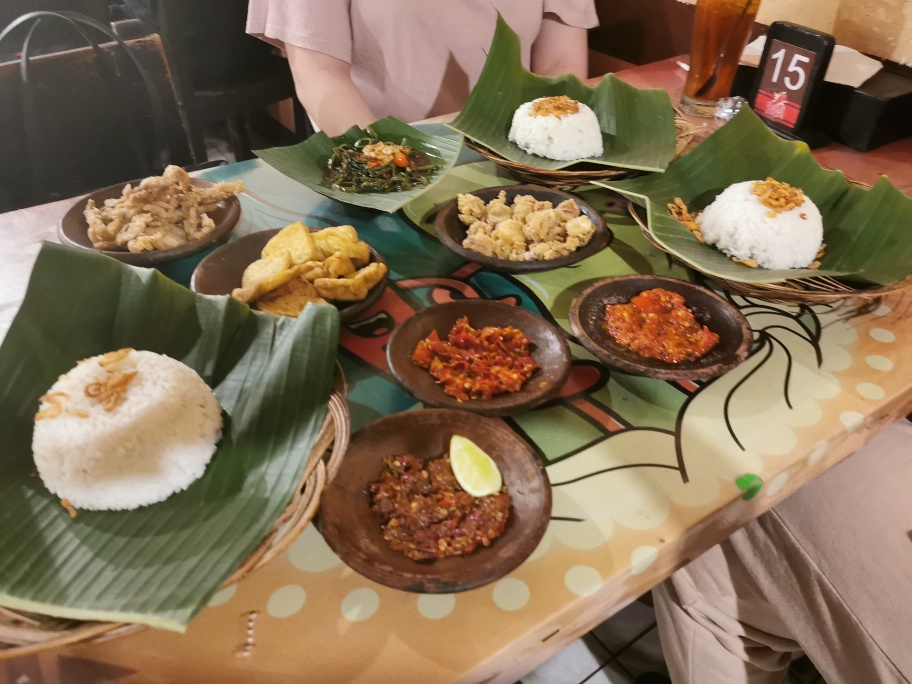nasi putih: (27, 350, 229, 510), (706, 173, 826, 273), (510, 88, 603, 166)
